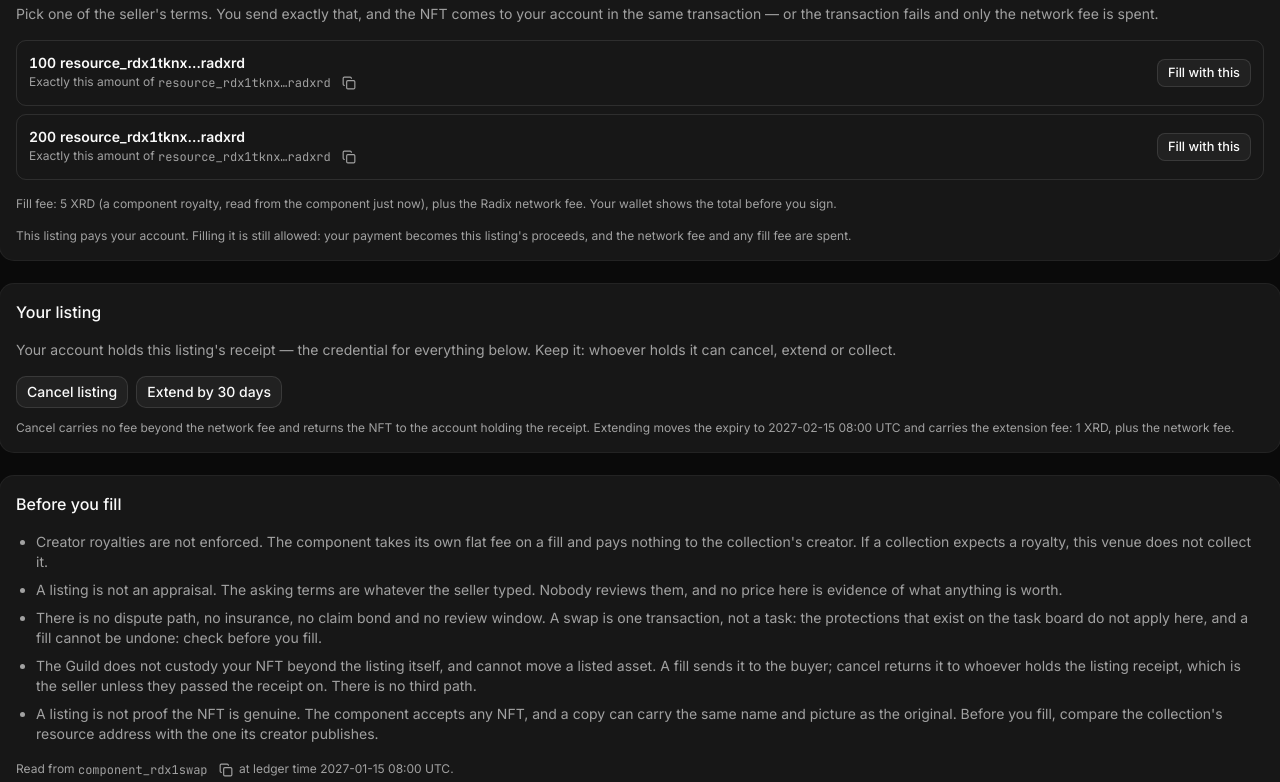
Test case: SwapDetail › a listing that becomes hidden while the page is open puts the plain 'Listing #n' title back
(page scrolled)
Click the button "Extend by 30 days". click: x=209, y=392
box: left=136, top=376, right=282, bottom=408
(page scrolled)
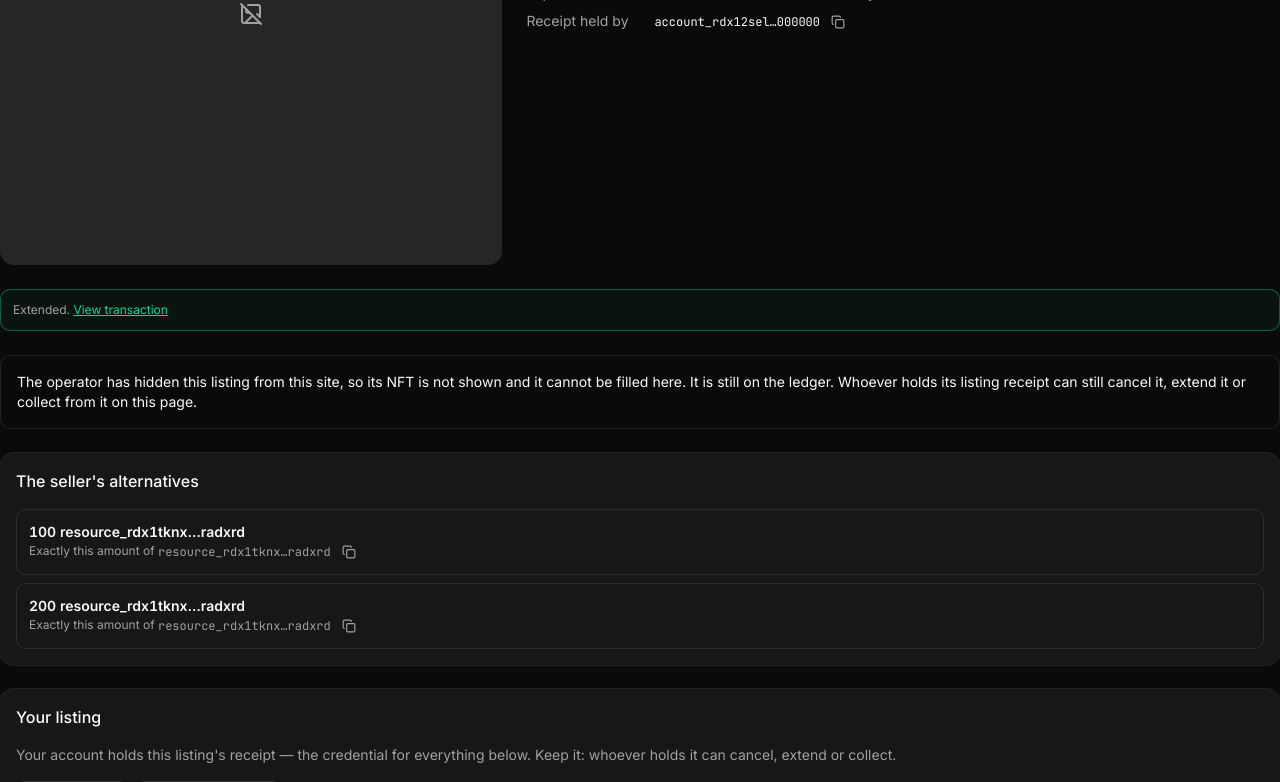
Now the text "The operator has hidden this listing from this site, so its NFT is not shown and it cannot be filled here. It is still o" is shown, box left=17, top=373, right=1246, bottom=410
